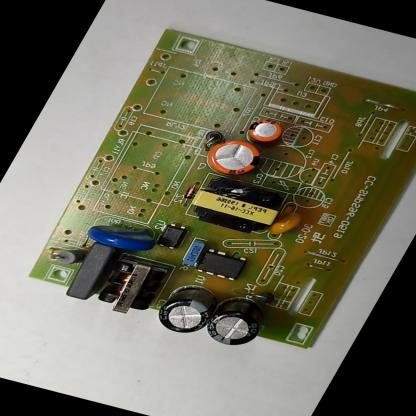Cap1: (194, 129, 278, 184)
Cap2: (233, 112, 295, 152)
Cap3: (144, 278, 233, 340)
Cap4: (192, 287, 280, 355)
MOSFET: (183, 243, 258, 287)
Mov: (72, 207, 172, 260)
Resistor: (45, 240, 91, 272)
Transformer: (178, 169, 298, 241), (87, 251, 178, 321)
